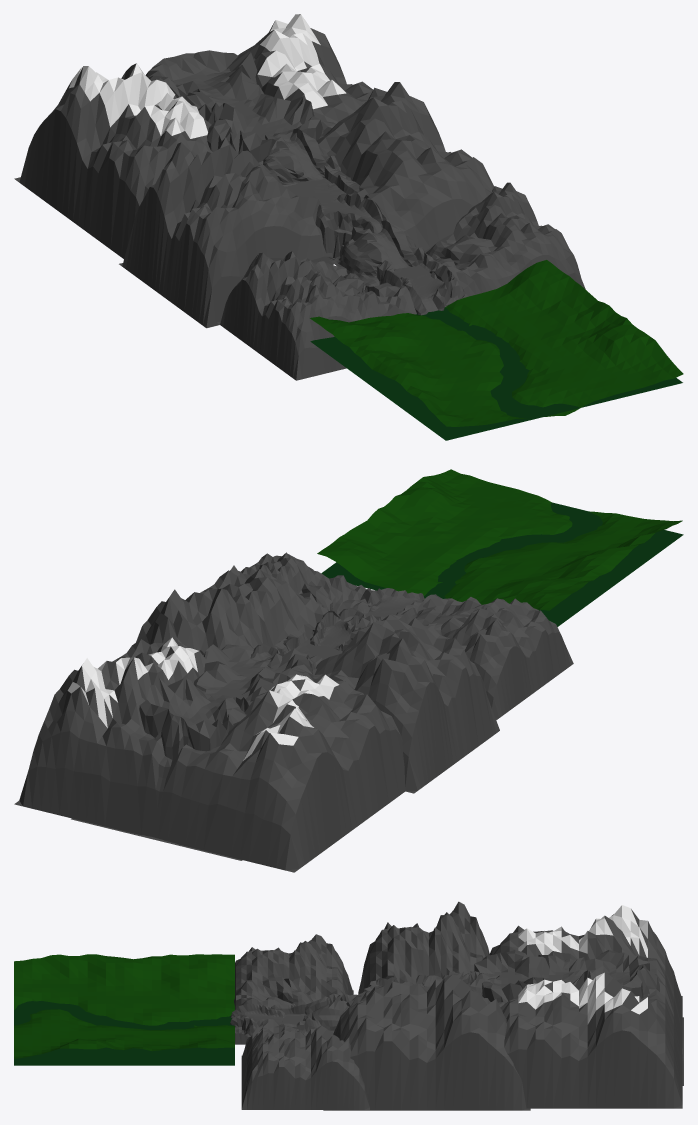
File: MAPAv2.fbx
3 views of the same model, one above another, from view 1: azimuth 30°, elevation 25°; view 2: azimuth 150°, elevation 25°; view 3: azimuth 270°, elevation 25° (orthographic). The views are drawn at different scales.
Parts seen in each view (by area): view 1: Landscape.008, 08.002, Landscape.002, Landscape.022, Landscape.003, Landscape.004, Landscape.005, Landscape.001, Landscape_plane; view 2: Landscape.022, Landscape.008, Landscape.001, Landscape.002, 08.002, Landscape.004, Landscape.003, Landscape_plane, Landscape.005; view 3: Landscape.001, Landscape.003, Landscape.008, 08.002, Landscape.005, Landscape.002, Landscape.004, Landscape.022, Landscape_plane.
Part boxes in pixels (x1,y1,x2,y2): Landscape.008: (310,260,683,426); 08.002: (145,50,465,315); Landscape.002: (119,137,333,328); Landscape.022: (14,63,212,258); Landscape.003: (316,82,494,252); Landscape.004: (217,251,416,380); Landscape.005: (426,182,585,297); Landscape.001: (226,14,372,123); Landscape_plane: (310,307,682,440); Landscape.022: (151,674,405,872); Landscape.008: (317,469,682,610); Landscape.001: (14,637,205,838); Landscape.002: (312,615,499,793); 08.002: (71,588,436,860); Landscape.004: (408,595,573,719); Landscape.003: (136,569,338,655); Landscape_plane: (321,502,683,626); Landscape.005: (230,552,381,634); Landscape.001: (500,972,682,1108); Landscape.003: (323,974,530,1110); Landscape.008: (14,954,234,1058); 08.002: (230,949,683,1085); Landscape.005: (241,1019,369,1109); Landscape.002: (358,901,489,994); Landscape.004: (234,934,353,1044); Landscape.022: (489,905,682,1048); Landscape_plane: (14,1001,234,1065).
Size of the model in its own units: 83069 by 34029 by 192420.
